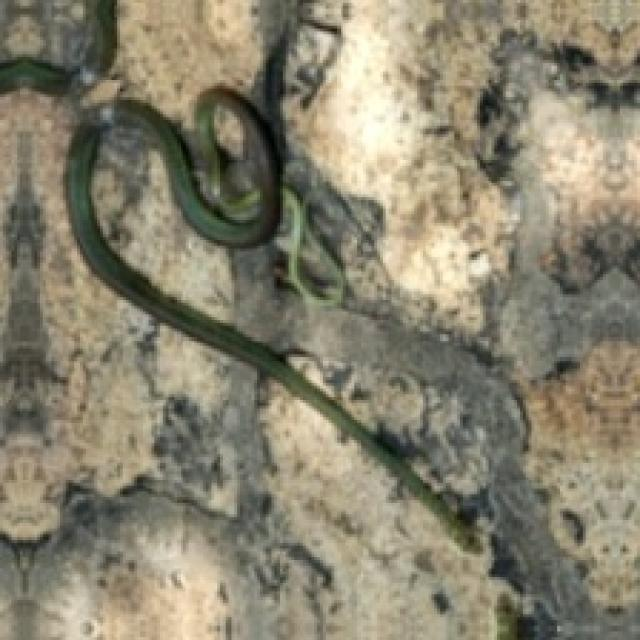paradise tree snake: (0, 0, 480, 551), (3, 163, 51, 431)
